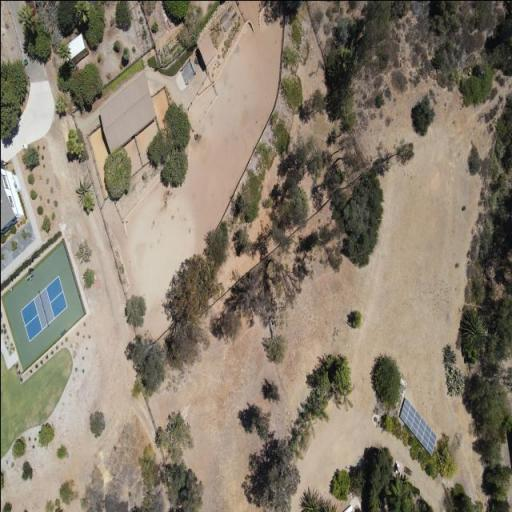solar-panel: (399, 397, 436, 455)
